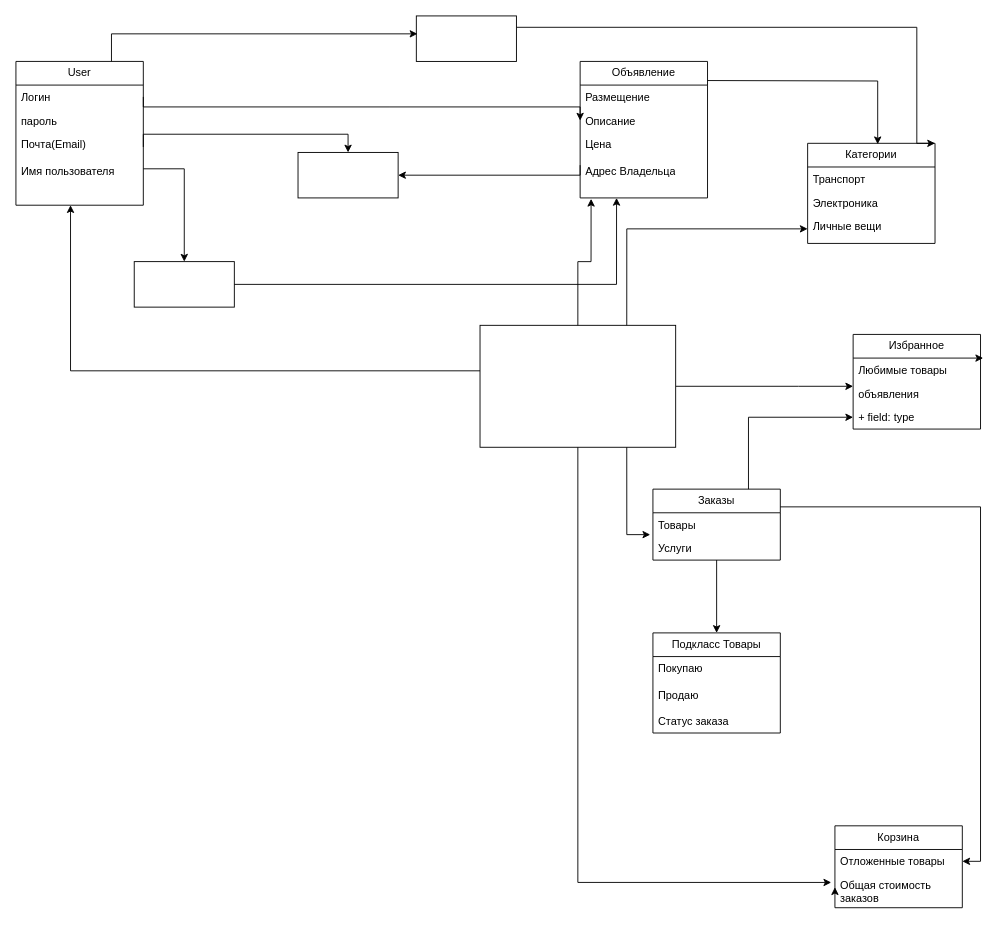
The diagram is 1006 pixels wide and 926 high, and some of its shapes have lost their labels. Here are the shapes that lost their labels. From the top down, the centre of each, then its label:
At (465,38): "Поисковая строка".
At (347,175): "Уведомления".
At (183,284): "Личные сообщения".
At (577,385): "PolyTrade Hub".
